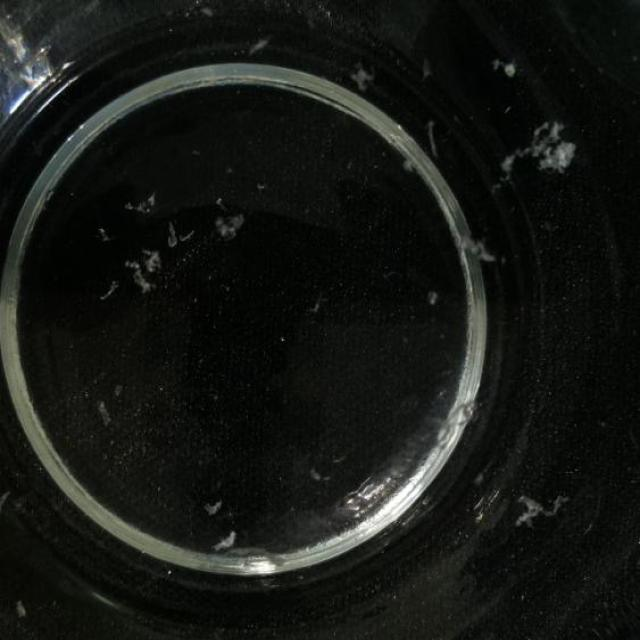fiber: (503, 128, 579, 176), (507, 494, 568, 532), (124, 257, 160, 302), (164, 222, 201, 248), (445, 238, 498, 256), (213, 206, 243, 236), (92, 274, 120, 305), (349, 62, 374, 96), (198, 494, 228, 521), (492, 57, 522, 81), (248, 33, 272, 63), (130, 195, 158, 219), (96, 394, 112, 434), (423, 117, 440, 154), (215, 530, 242, 552), (12, 592, 31, 623), (304, 458, 326, 483), (426, 284, 439, 316), (401, 151, 415, 176), (98, 222, 111, 245)
